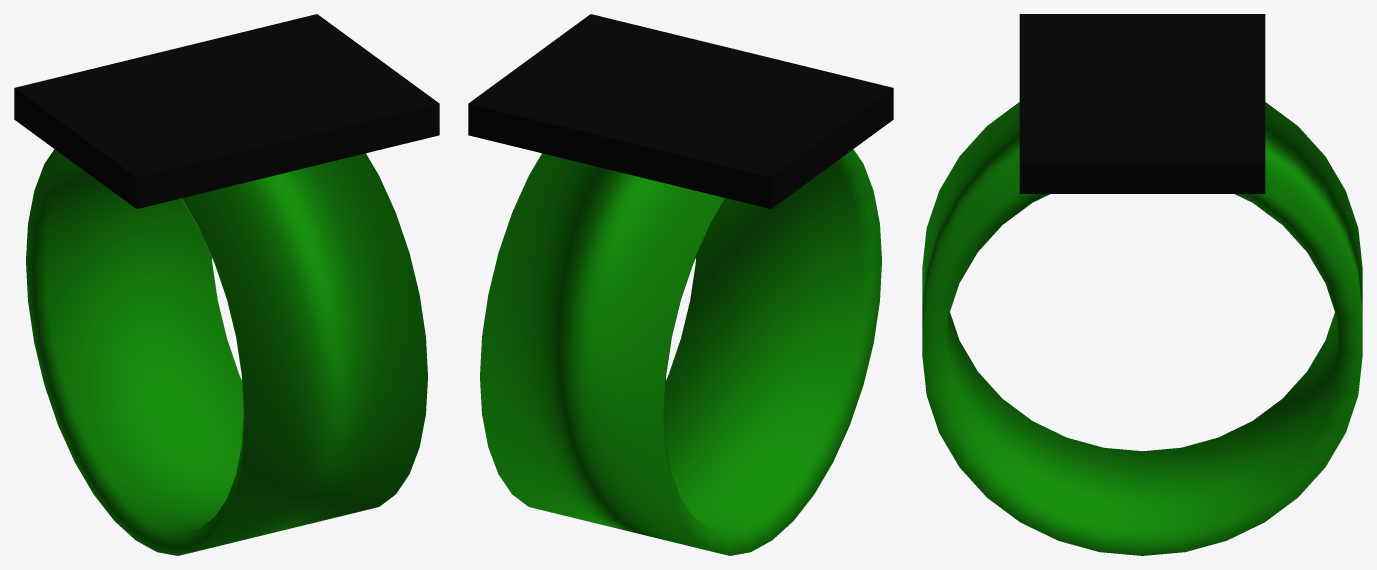
The model's file is WatchMesh.fbx.
3 renders of one model, left to right at view 1: azimuth 30°, elevation 25°; view 2: azimuth 150°, elevation 25°; view 3: azimuth 270°, elevation 25°, orthographic.
Parts seen in each view (by area): view 1: Cylinder, Cube; view 2: Cylinder, Cube; view 3: Cylinder, Cube.
Part boxes in pixels (<box>): Cylinder: <box>26,149,427,555</box>; Cube: <box>14,14,439,208</box>; Cylinder: <box>480,149,881,555</box>; Cube: <box>468,14,893,208</box>; Cylinder: <box>922,102,1362,555</box>; Cube: <box>1019,14,1265,193</box>.
Size of the model in its own units: 303 by 403 by 380.
